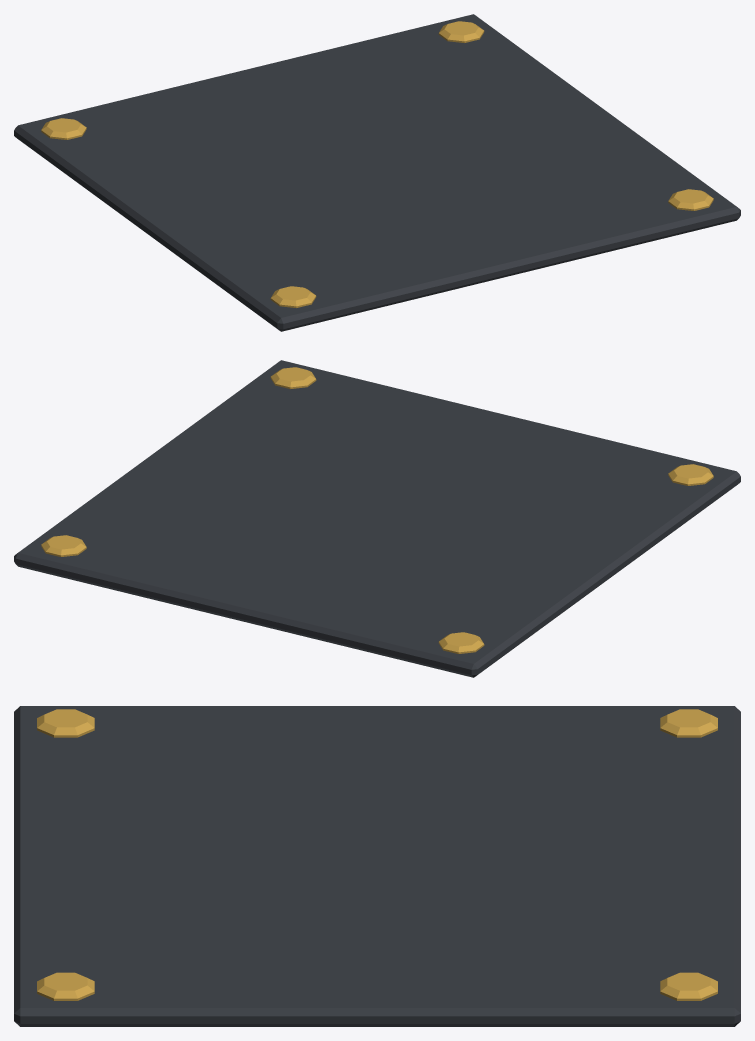
File: ENV_Plot_VaultPad.fbx
3 views of the same model, one above another, from view 1: azimuth 30°, elevation 25°; view 2: azimuth 150°, elevation 25°; view 3: azimuth 270°, elevation 25° (orthographic). The views are drawn at different scales.
Visible parts, largest first — view 1: Pad, Rivets; view 2: Pad, Rivets; view 3: Pad, Rivets.
Part boxes in pixels (box(x1,y1,x2,y2)): Pad: box(14, 14, 740, 331); Rivets: box(41, 21, 713, 307); Pad: box(14, 360, 740, 677); Rivets: box(41, 367, 713, 653); Pad: box(14, 706, 740, 1026); Rivets: box(37, 709, 717, 1000).
Size of the model in its own units: 14 by 0.55 by 14.
